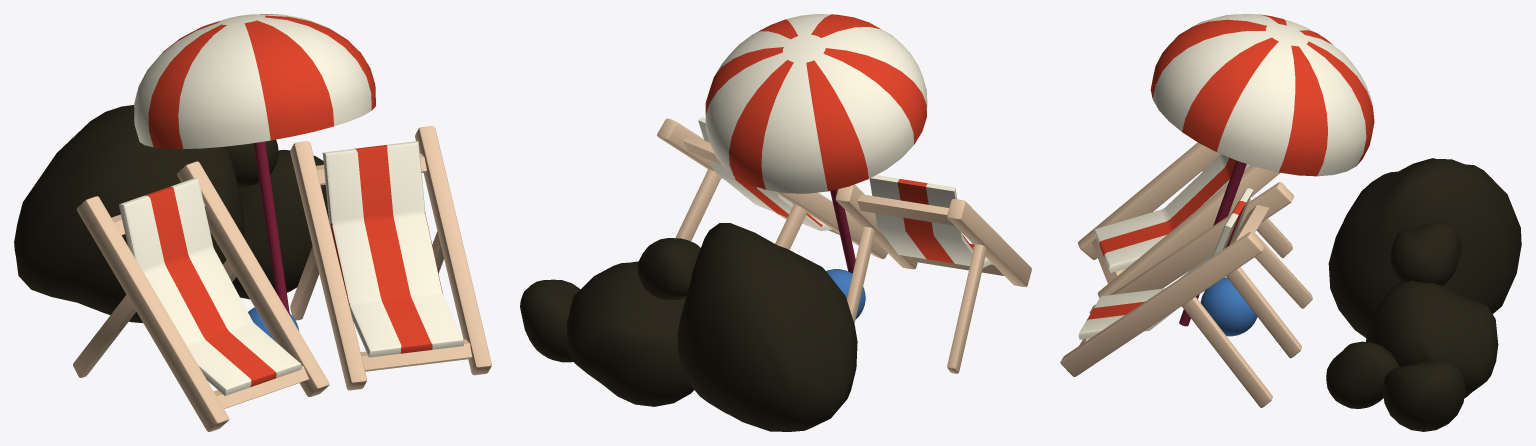
File: object_two_chairs.glb
3 views of the same model, side by side, from view 1: azimuth 30°, elevation 25°; view 2: azimuth 150°, elevation 25°; view 3: azimuth 270°, elevation 25° (orthographic). The views are drawn at different scales.
Visible parts, largest first — view 1: Plane_2, Plane.001_40, Cylinder.004_13, Icosphere.003_7, Icosphere.001_5, Icosphere.004_8; view 2: Cylinder.004_13, Icosphere.003_7, Plane.001_40, Icosphere.001_5, Plane_2, Icosphere_4, Icosphere.004_8, Sphere_3; view 3: Cylinder.004_13, Icosphere.003_7, Plane_2, Plane.001_40, Icosphere.001_5, Icosphere_4, Icosphere.004_8, Icosphere.002_6, Sphere_3.
Boxes of the visible parts, <box> form: Plane_2: <box>290,126,491,390</box>; Plane.001_40: <box>73,161,329,431</box>; Cylinder.004_13: <box>134,14,375,315</box>; Icosphere.003_7: <box>14,105,244,323</box>; Icosphere.001_5: <box>232,149,328,299</box>; Icosphere.004_8: <box>227,139,278,186</box>; Cylinder.004_13: <box>705,14,927,273</box>; Icosphere.003_7: <box>677,223,857,431</box>; Plane.001_40: <box>835,175,1031,373</box>; Icosphere.001_5: <box>566,261,693,406</box>; Plane_2: <box>657,117,887,258</box>; Icosphere_4: <box>520,279,580,362</box>; Icosphere.004_8: <box>637,238,700,300</box>; Sphere_3: <box>826,269,865,319</box>; Cylinder.004_13: <box>1150,14,1374,326</box>; Icosphere.003_7: <box>1328,158,1521,337</box>; Plane_2: <box>1060,182,1301,407</box>; Plane.001_40: <box>1078,142,1312,308</box>; Icosphere.001_5: <box>1366,280,1498,398</box>; Icosphere_4: <box>1382,359,1465,431</box>; Icosphere.004_8: <box>1390,222,1461,285</box>; Icosphere.002_6: <box>1326,341,1399,408</box>; Sphere_3: <box>1200,277,1257,336</box>.
Bounding box in the file's own units: 5.17 × 4.44 × 5.51.
